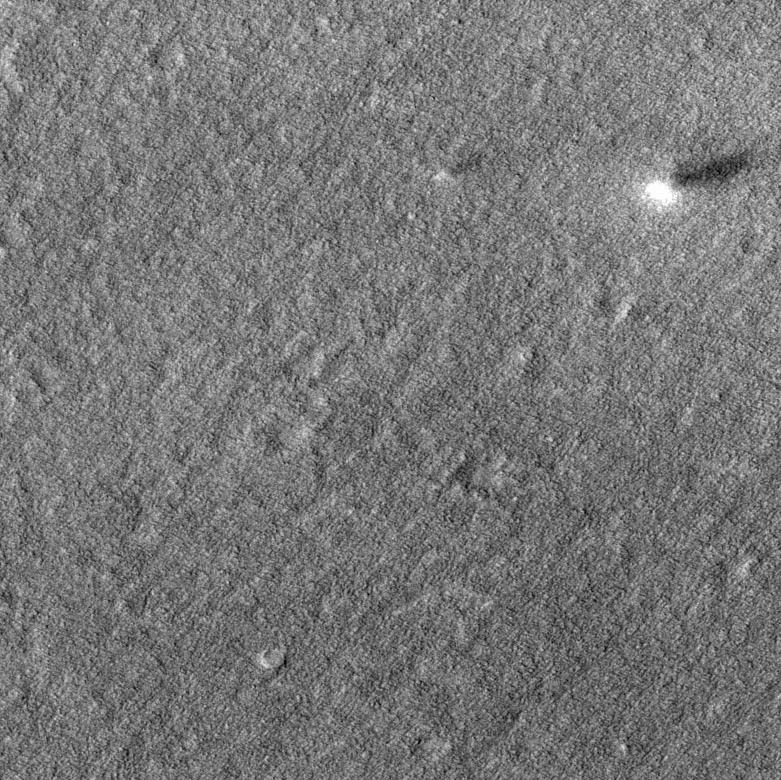dust_devil: (642, 149, 756, 207), (432, 149, 487, 182)
